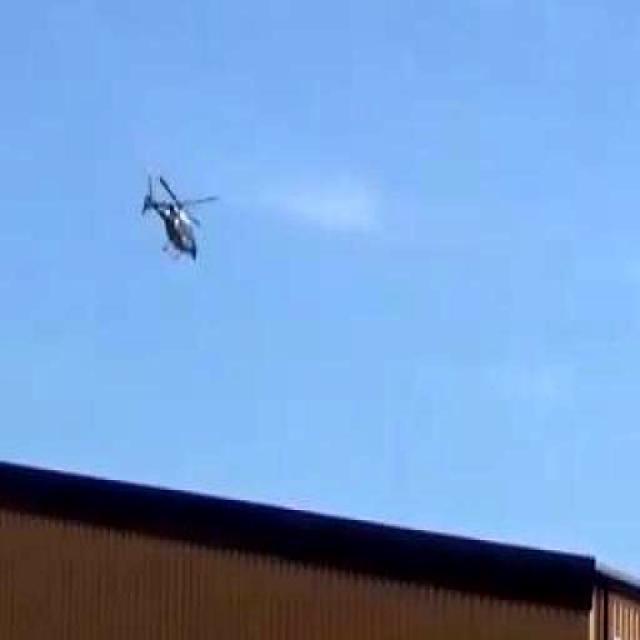drone: (126, 158, 246, 296)
